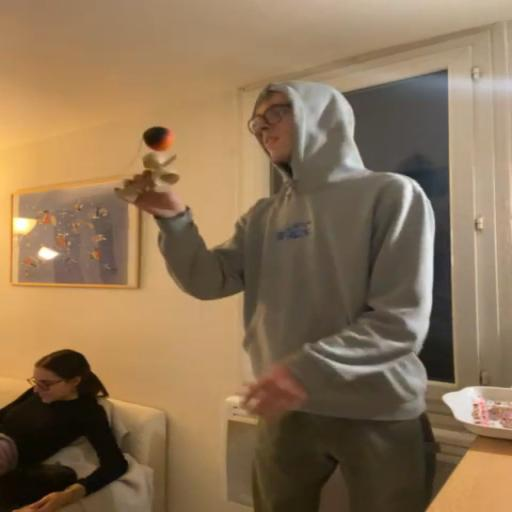kendama_ball: (142, 126, 176, 152)
